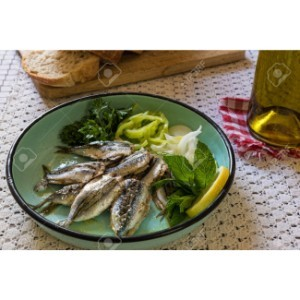sardine_brain food: (51, 136, 177, 218)
